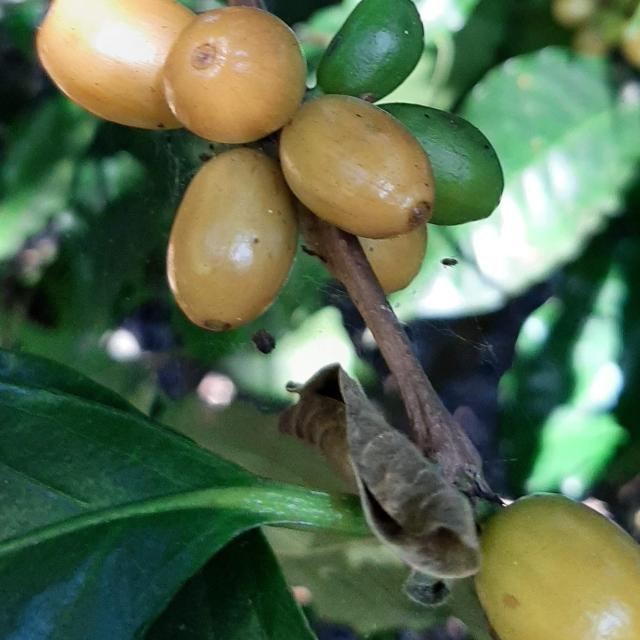green: (380, 102, 504, 225), (317, 0, 424, 101)
red: (167, 148, 297, 332), (279, 94, 436, 238), (35, 0, 195, 129), (162, 6, 306, 143), (359, 224, 428, 294)
yellow: (477, 495, 640, 640)
